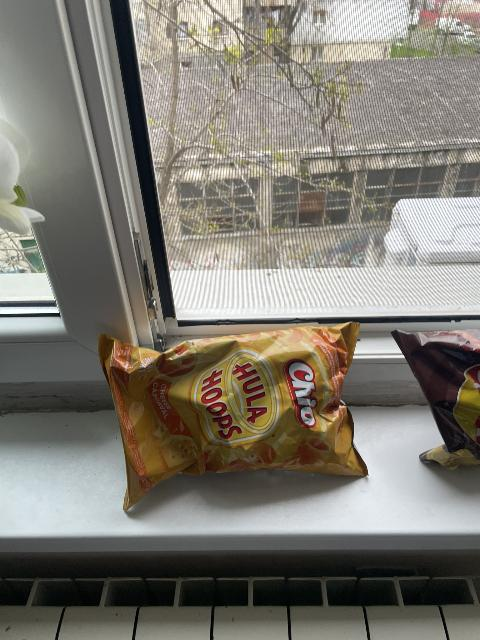Chio Hula Hoops Cheese 70g: (99, 321, 360, 509)
Lays Beef Grilled Ribs 125g: (390, 327, 476, 470)
